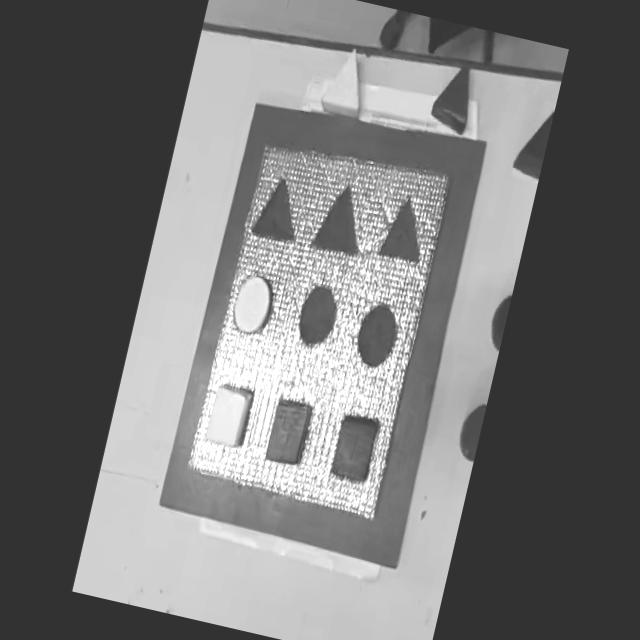bcircle: (485, 293, 512, 351)
bcube: (328, 412, 379, 484)
btriangle: (512, 104, 554, 180)
mtcircle: (290, 278, 342, 352), (350, 298, 402, 370)
mttriangle: (311, 178, 372, 259), (248, 172, 305, 246), (376, 192, 432, 266)
rcircle: (455, 401, 486, 461)
rcube: (263, 398, 312, 468)
rtriangle: (428, 55, 478, 134)
wb: (182, 130, 456, 524)
ycircle: (228, 270, 278, 338)
ycube: (202, 381, 254, 451)
ytriangle: (319, 42, 372, 118)
